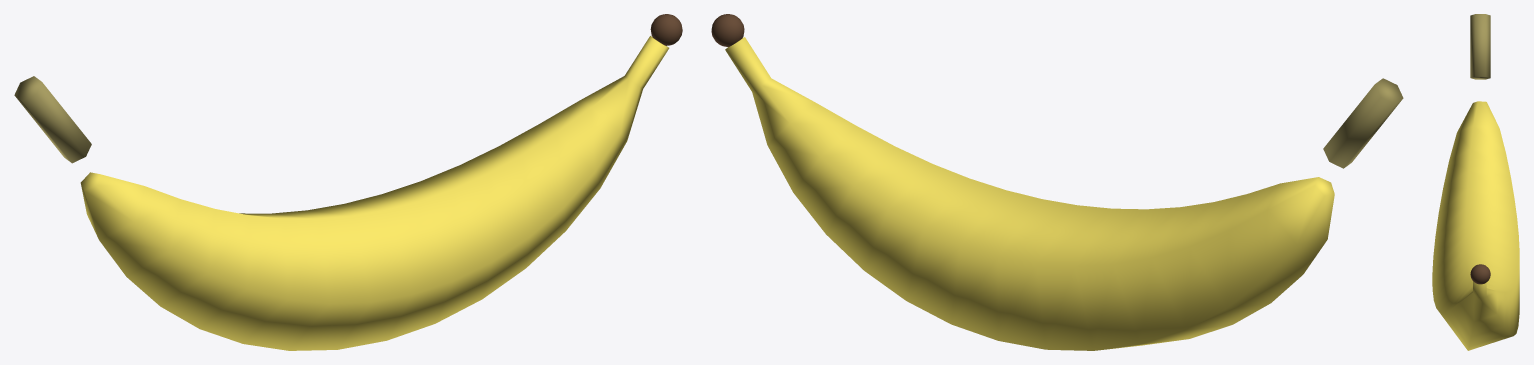
The model's file is SM_Banana.glb.
The picture shows the model from 3 angles, left to right: view 1: azimuth 30°, elevation 25°; view 2: azimuth 150°, elevation 25°; view 3: azimuth 270°, elevation 25°; orthographic projection. The views are drawn at different scales.
Visible parts, largest first — view 1: SM_Banana; view 2: SM_Banana; view 3: SM_Banana.
Boxes of the visible parts, <box> form: SM_Banana: <box>14,14,682,350</box>; SM_Banana: <box>711,14,1403,350</box>; SM_Banana: <box>1432,14,1519,350</box>.
Size of the model in its own units: 0.1905 by 0.0922 by 0.0343.
